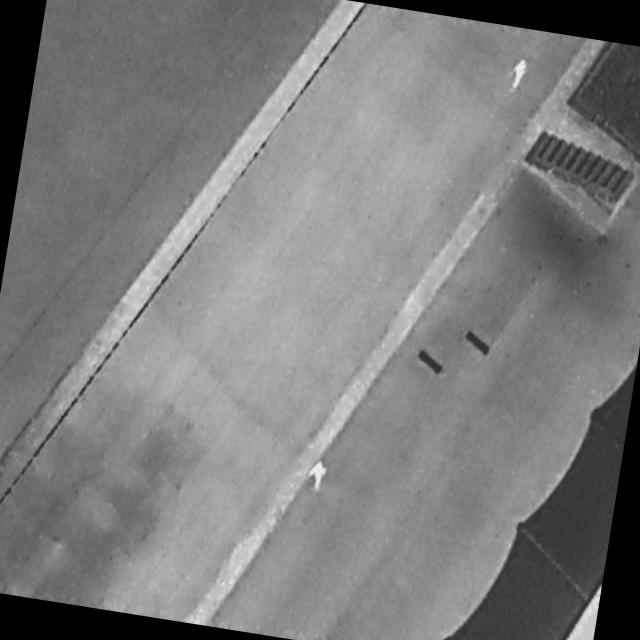person: (505, 54, 533, 94), (305, 459, 330, 494)
